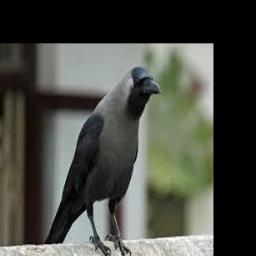Crow: (43, 65, 161, 256)
